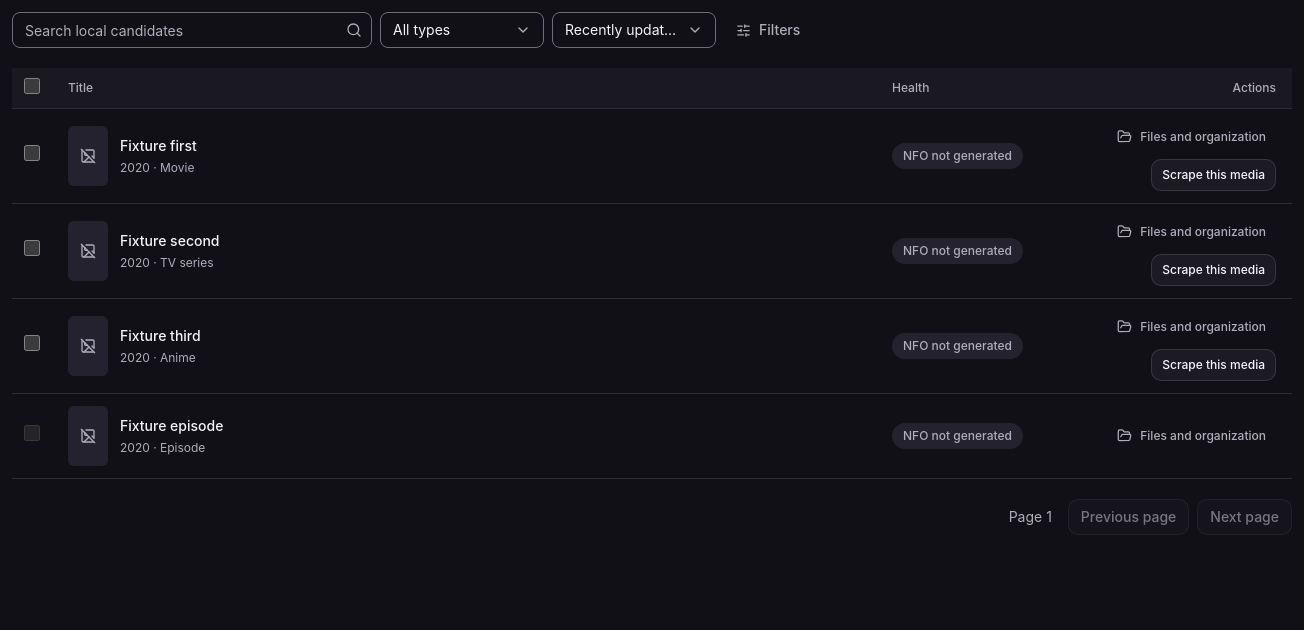
Test: uses the same type selector and table while switching backend adapters and clearing ordinary selection
Click the checkbox named "Select for scraping: Fixture first" at [32, 153], box [24,145,40,161]
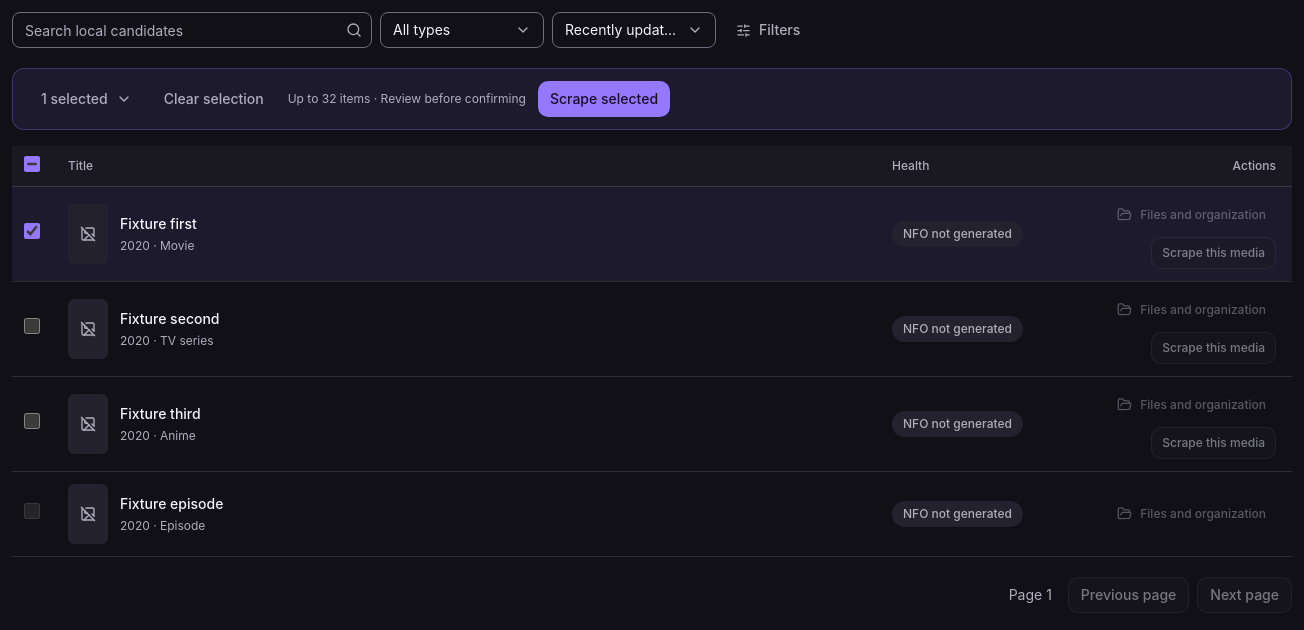
Click the dropdown named "Media type" at [462, 30], box [380,12,544,48]
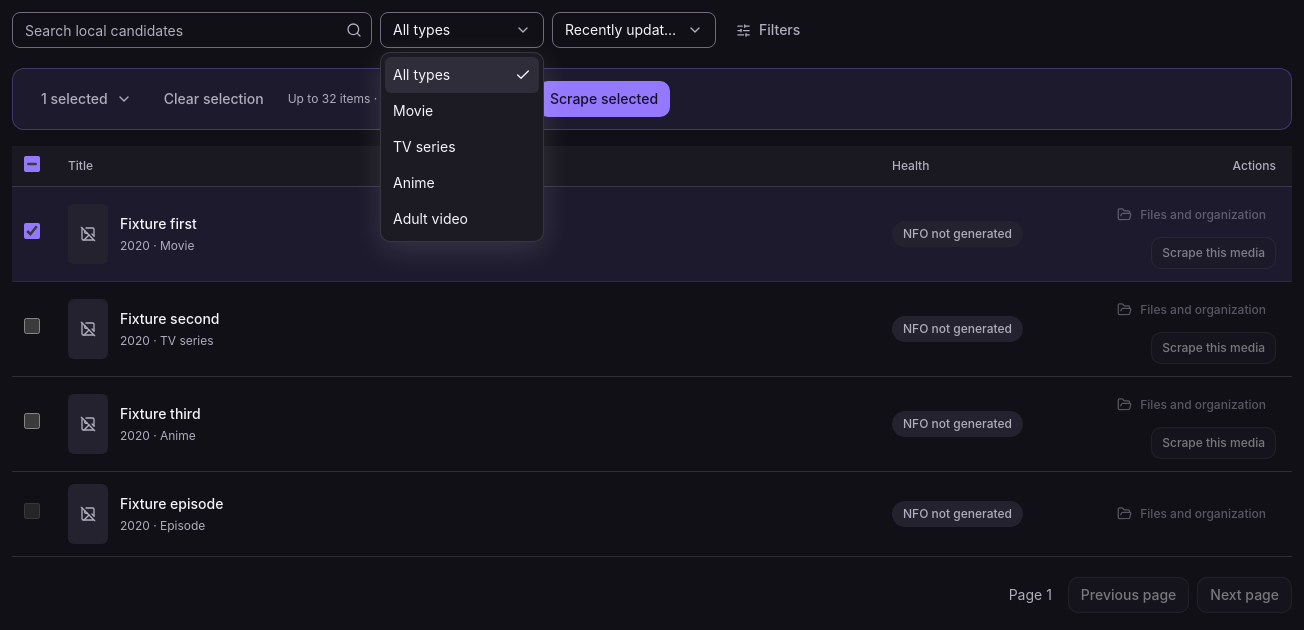
Click the option "Adult video" at [462, 219], box [385,201,539,237]
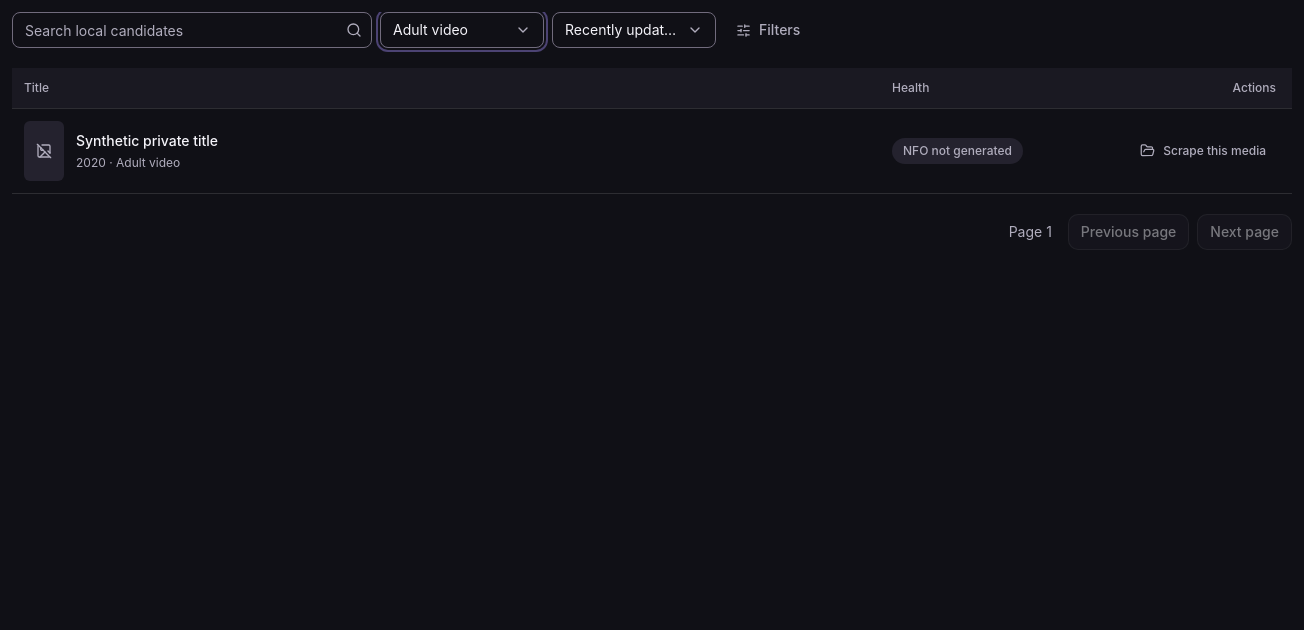
expect the text "Synthetic private title" is shown: met, box [76,130,218,150]
expect the checkbox is gone: met
expect the button "Scrape selected" is gone: met
Click the dropdown named "Media type" at [462, 30], box [380,12,544,48]
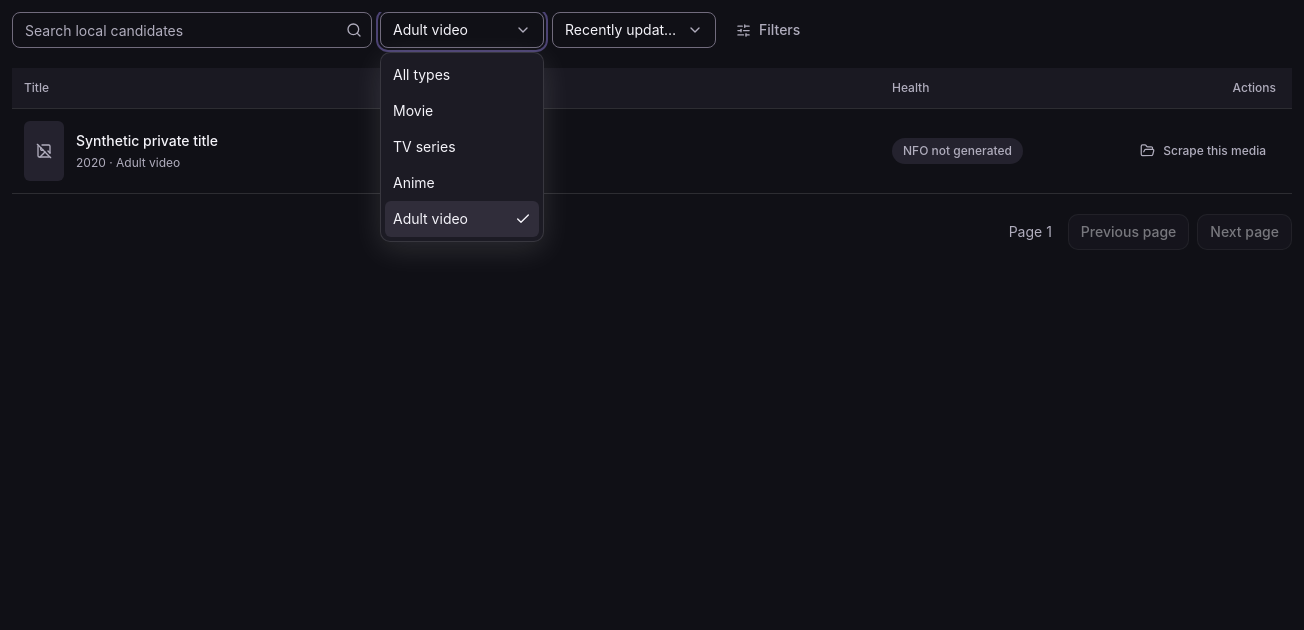
Click the option "Movie" at [462, 111], box [385,93,539,129]
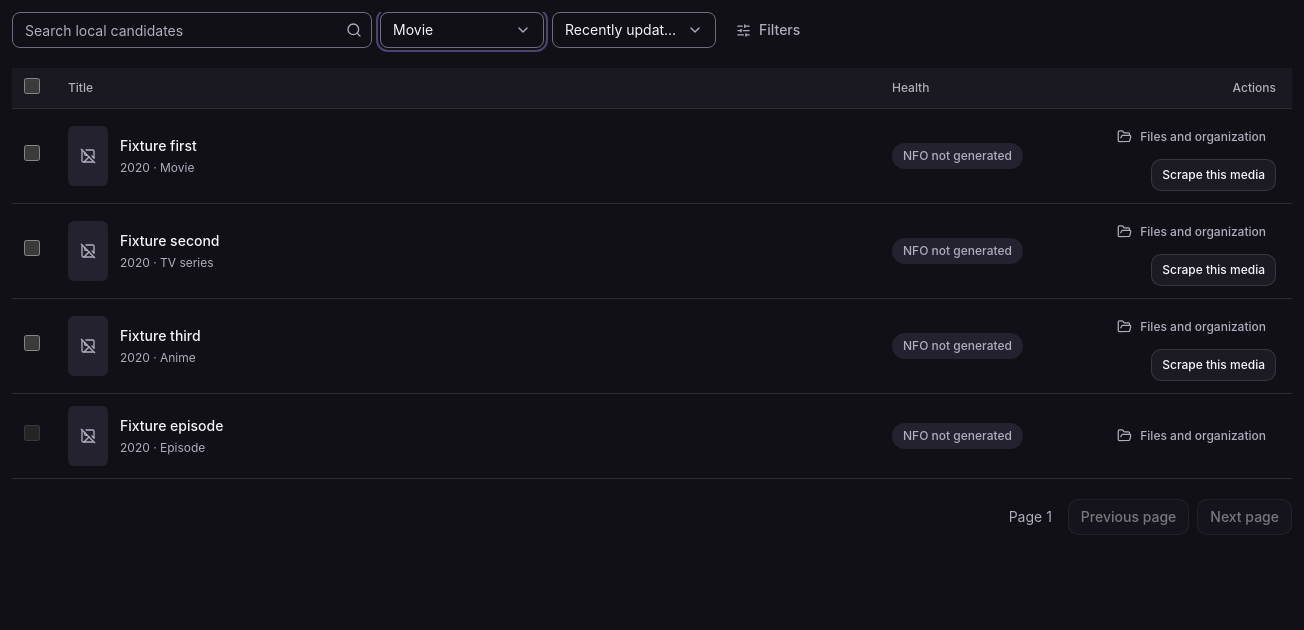
expect the text "Synthetic private title" is gone: met
